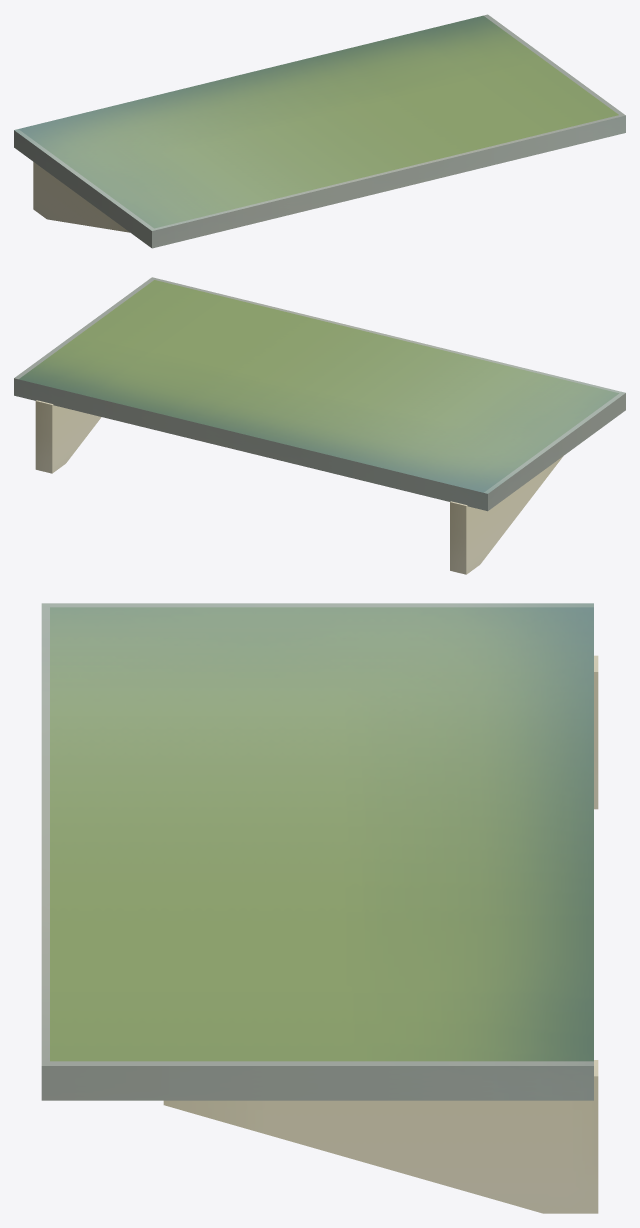
The model's file is kitcentop03bb.fbx.
3 views of the same model, one above another, from view 1: azimuth 30°, elevation 25°; view 2: azimuth 150°, elevation 25°; view 3: azimuth 270°, elevation 25° (orthographic). The views are drawn at different scales.
Parts seen in each view (by area): view 1: kitcentop03bb; view 2: kitcentop03bb; view 3: kitcentop03bb.
Boxes of the visible parts, bbox=[...] form: kitcentop03bb: bbox=[14, 14, 625, 248]; kitcentop03bb: bbox=[14, 277, 625, 574]; kitcentop03bb: bbox=[41, 603, 598, 1213].
Bounding box in the file's own units: 0.9303 × 0.1595 × 0.4732.
